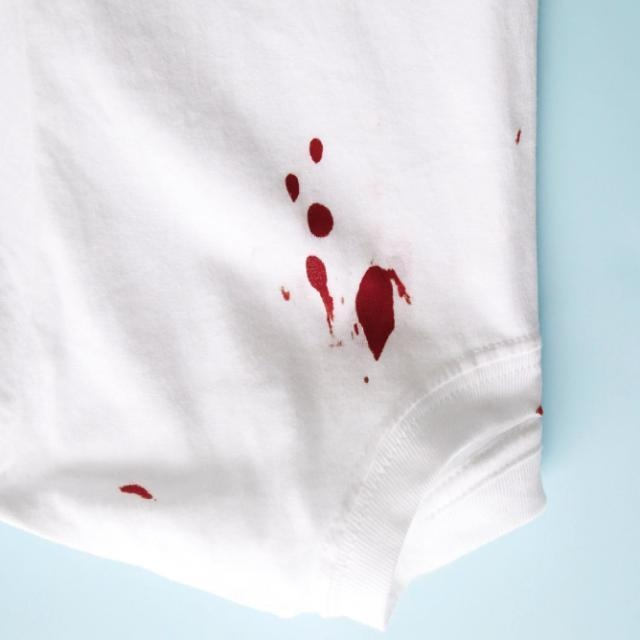blood: (282, 137, 339, 237), (350, 263, 401, 363), (305, 255, 337, 327)
